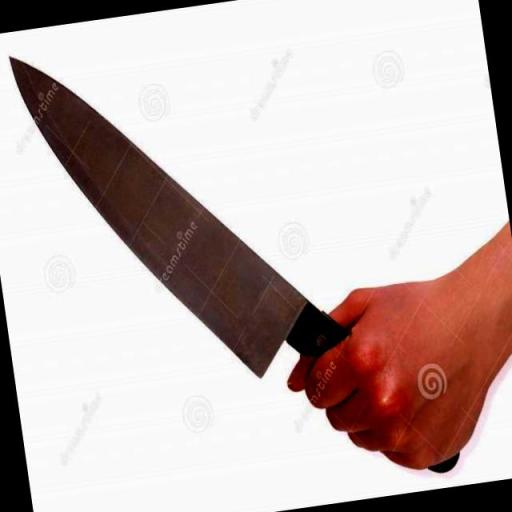knife: (4, 6, 380, 444)
